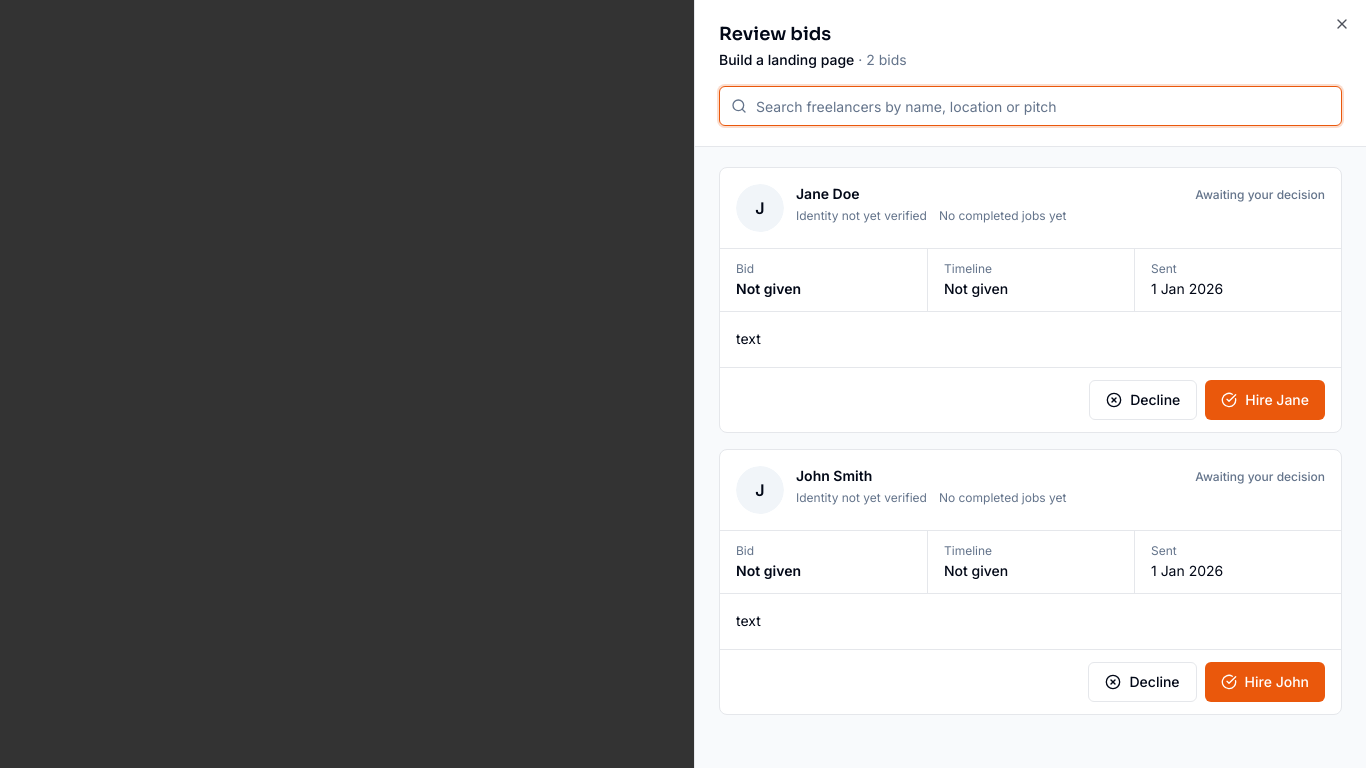
it: ProposalsModal › filters proposals by the search term (freelancer name)
The width and height of the screenshot is (1366, 768).
Expected: the heading "Jane Doe" is shown, [796, 184, 859, 204]
In the field with placeholder "Search freelancers by name, location or pitch": (1030, 106) [719, 86, 1342, 126], type "Jane"
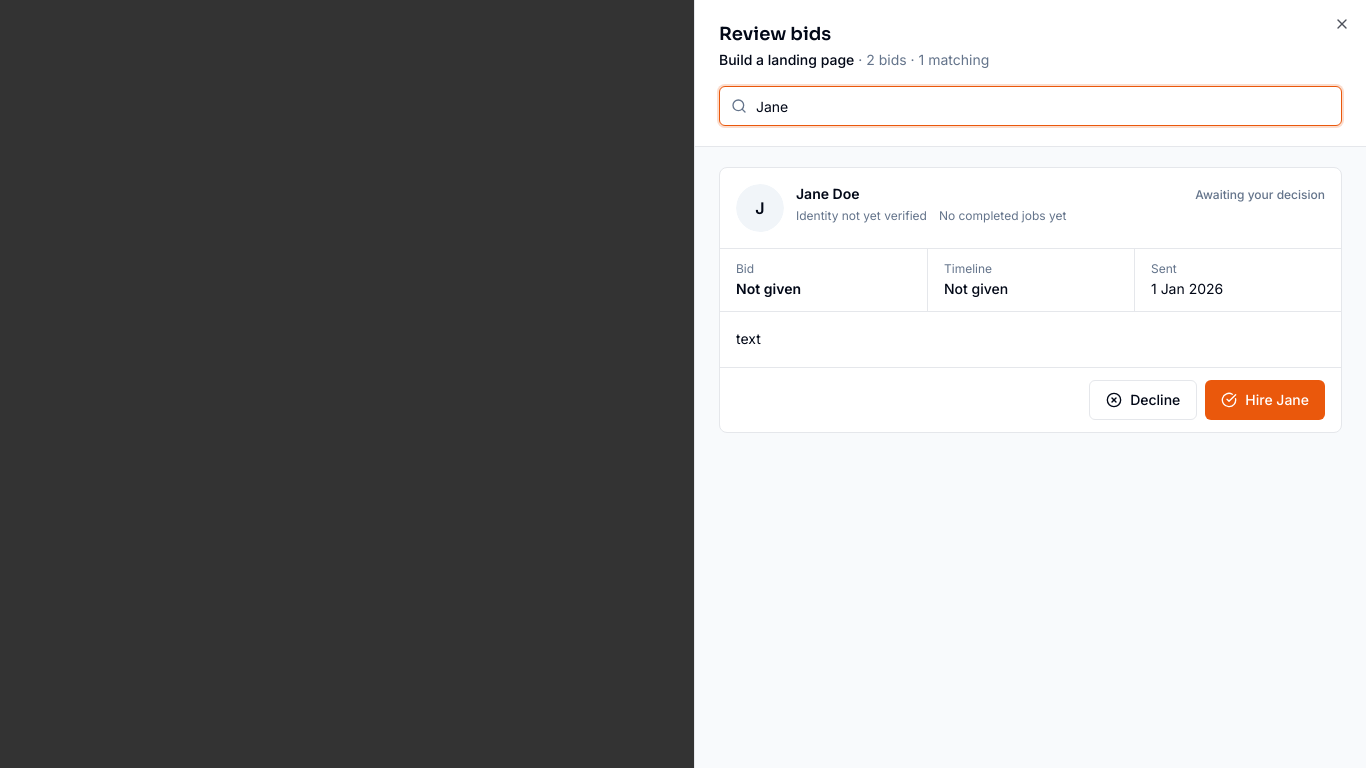
Expected: the heading "Jane Doe" is shown, [796, 184, 859, 204]
Expected: the heading "John Smith" is gone
